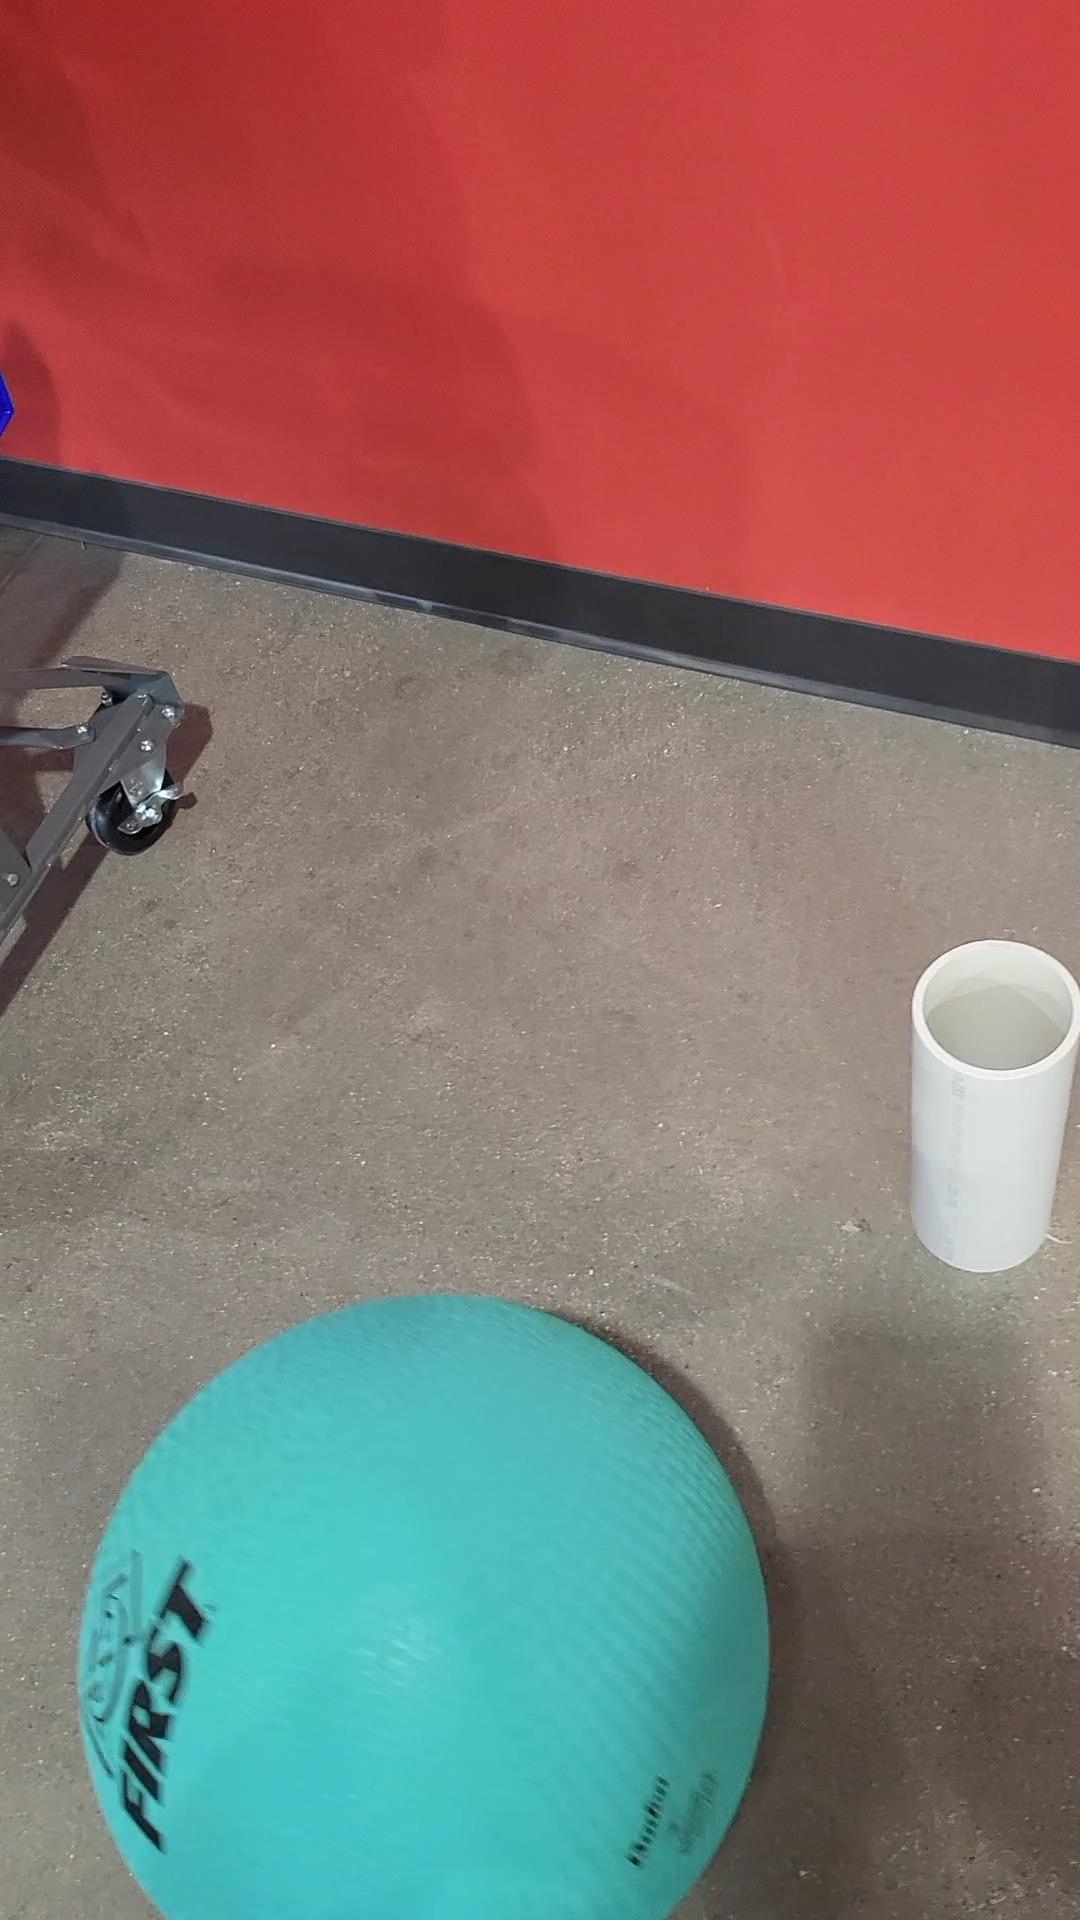algae: (76, 1296, 774, 1920)
coral: (906, 931, 1080, 1279)
